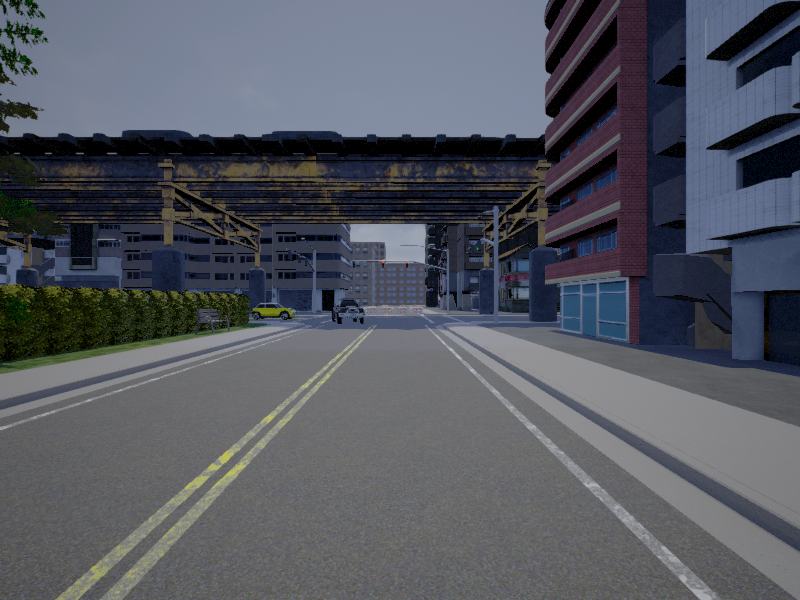Benign: (330, 300, 369, 323), (251, 302, 295, 320)
